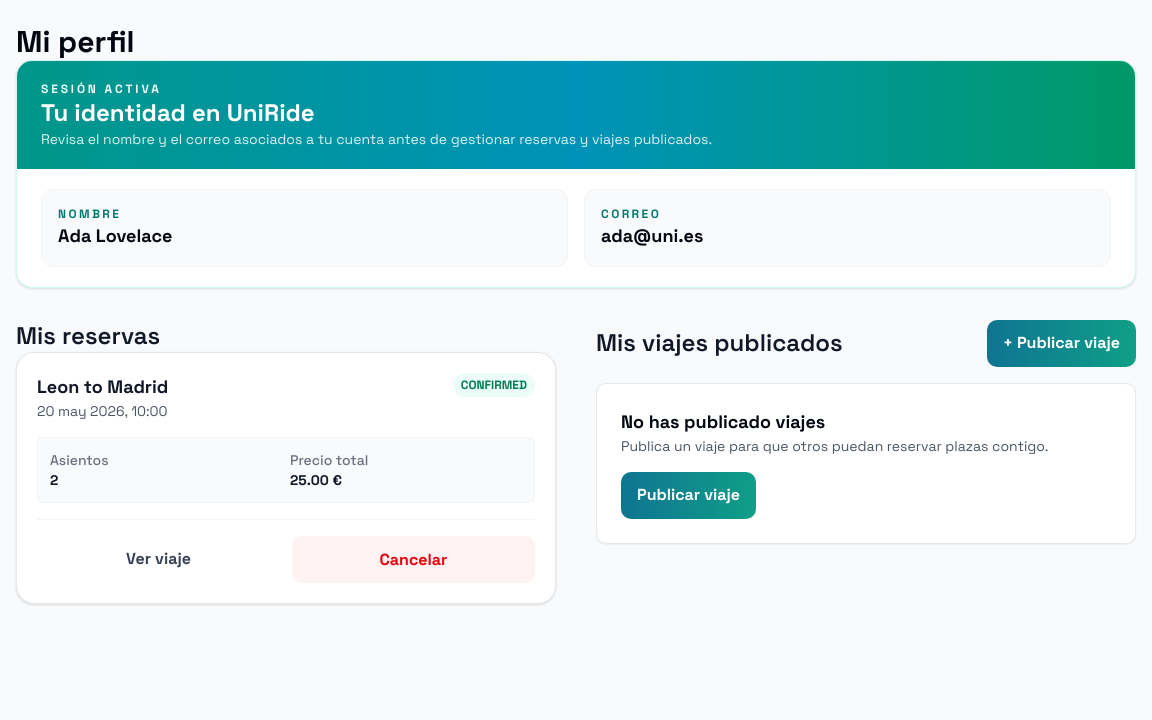
Test: ProfilePage › cancels a booking from the dashboard
The image size is (1152, 720).
Click the button "Cancelar". click: (414, 560)
box: [292,536,535,583]
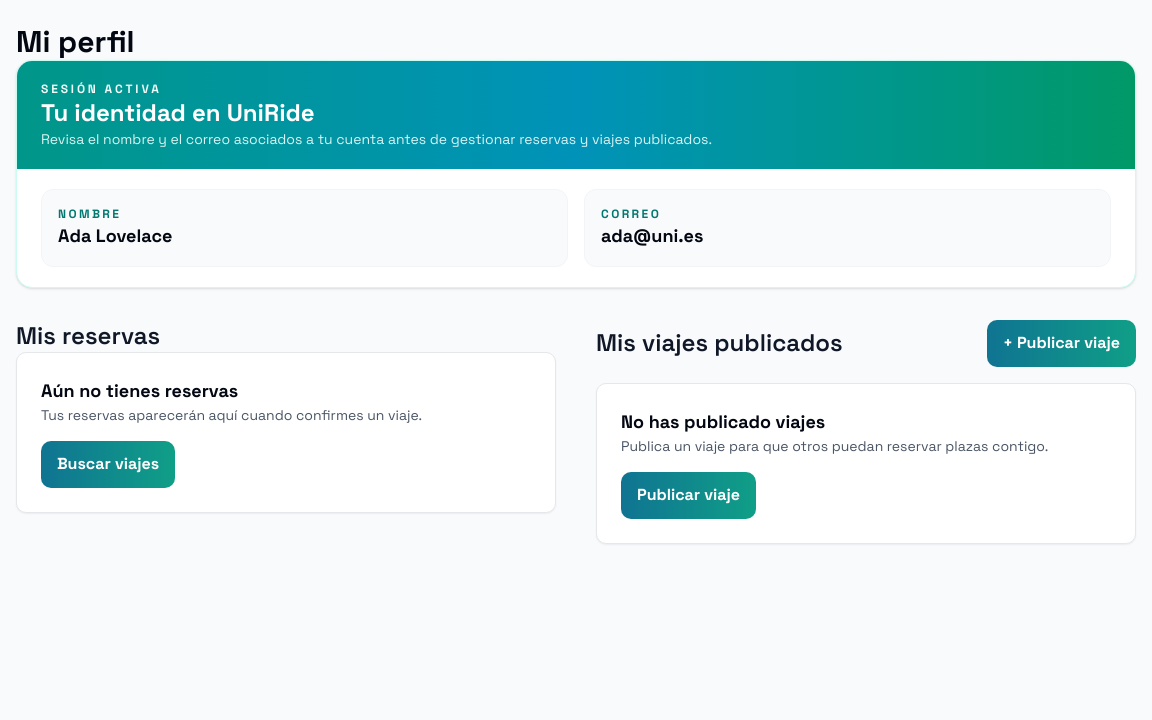
Expected: the heading "Leon to Madrid" is gone
